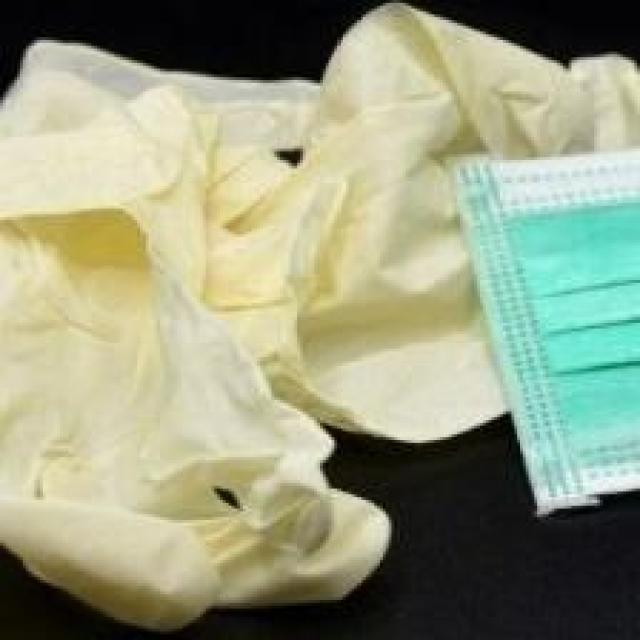Glove: (30, 61, 616, 568)
